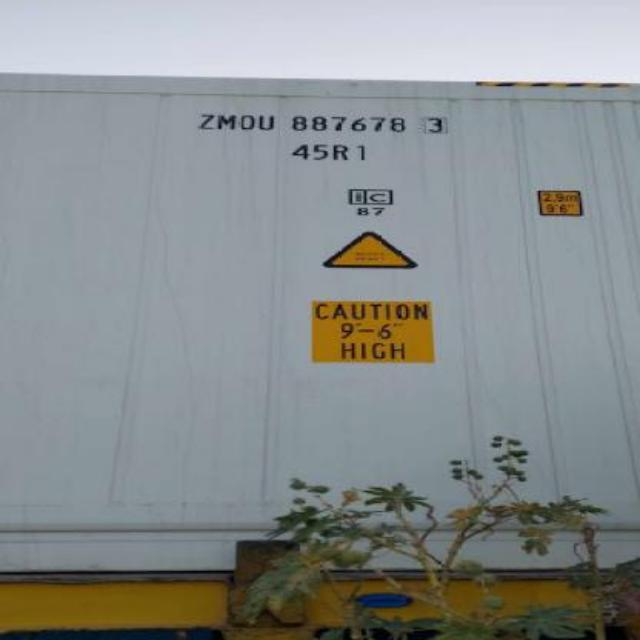3: (424, 118, 446, 132)
6: (350, 116, 370, 132)
7: (328, 116, 349, 132), (368, 116, 388, 132)
8: (310, 115, 328, 131), (388, 117, 406, 133), (292, 116, 308, 132)
M: (218, 114, 238, 130)
O: (240, 114, 256, 130)
U: (256, 116, 276, 130)
Z: (194, 113, 216, 131)
